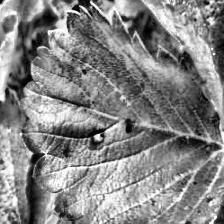Leaf Spot: (17, 0, 224, 224), (121, 0, 223, 140), (0, 82, 33, 224), (25, 173, 79, 224)
